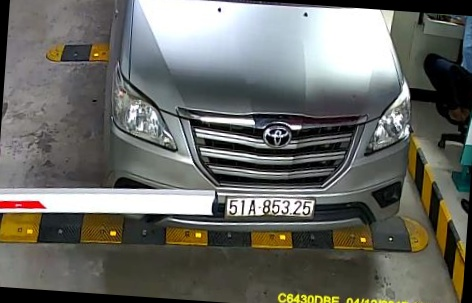plate: (225, 191, 315, 225)
